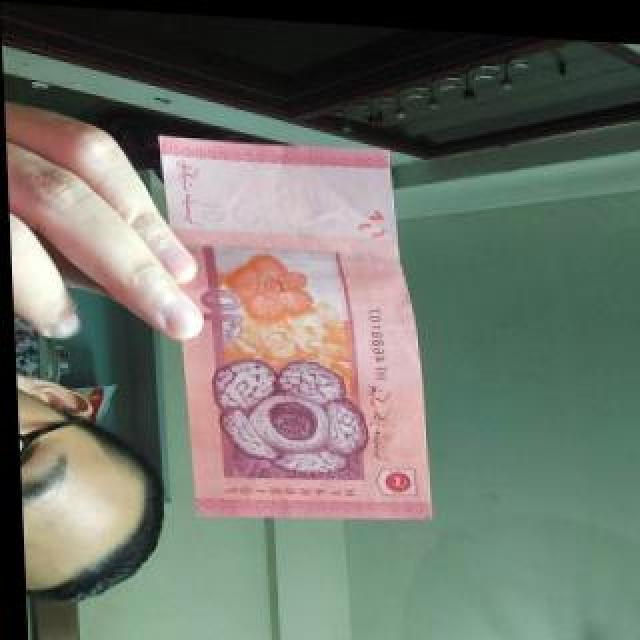10 Ringgit: (150, 132, 419, 521)
